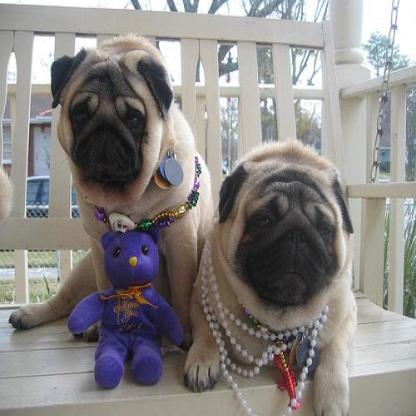pug: (8, 30, 212, 342), (180, 138, 357, 412)
